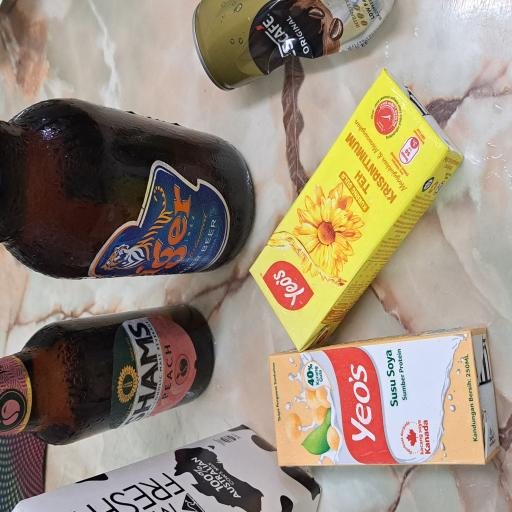can: (314, 257, 384, 512)
drink carton: (122, 334, 331, 512), (0, 0, 65, 430), (33, 359, 140, 512)
glass bottle: (176, 0, 312, 342), (48, 0, 158, 287)
